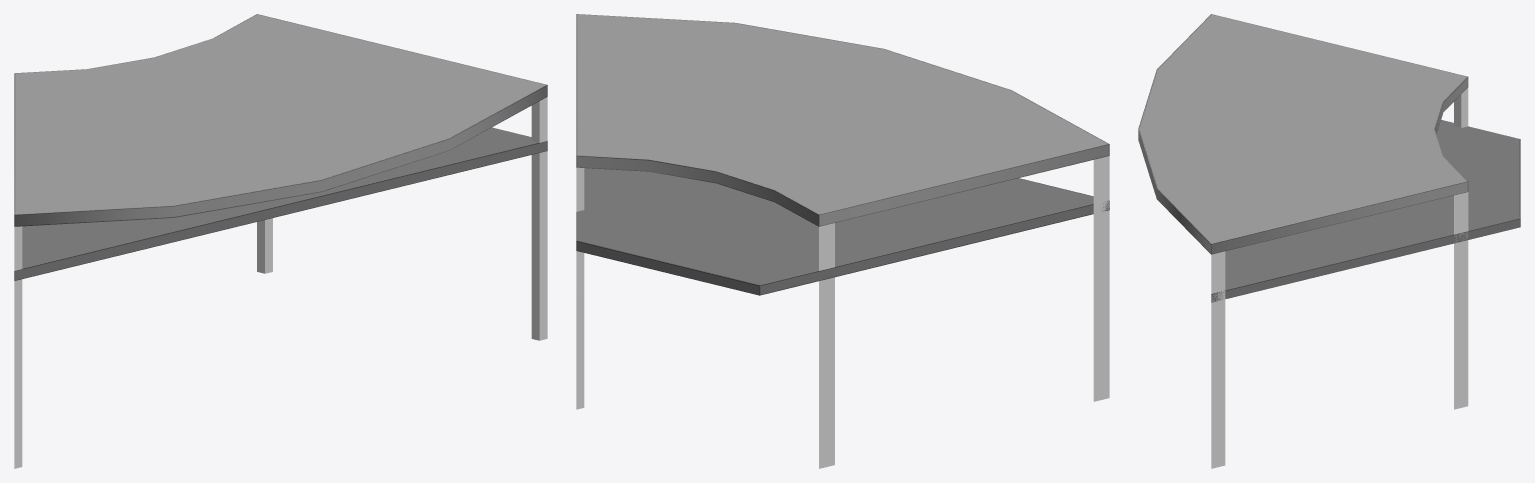
The model's file is VRTable.fbx.
3 renders of one model, left to right at view 1: azimuth 30°, elevation 25°; view 2: azimuth 150°, elevation 25°; view 3: azimuth 270°, elevation 25°, orthographic. The views are drawn at different scales.
Visible parts, largest first — view 1: VRTable, Shelf, Legs; view 2: VRTable, Shelf, Legs; view 3: VRTable, Shelf, Legs.
Boxes of the visible parts, x1,y1,x2,y2 form: VRTable: (14, 14, 547, 226); Shelf: (14, 127, 547, 280); Legs: (14, 97, 547, 468); VRTable: (576, 14, 1109, 226); Shelf: (576, 168, 1109, 295); Legs: (576, 156, 1109, 468); VRTable: (1138, 14, 1468, 254); Shelf: (1211, 120, 1520, 302); Legs: (1211, 87, 1468, 468).
Bounding box in the file's own units: 220 × 99.99 × 154.
